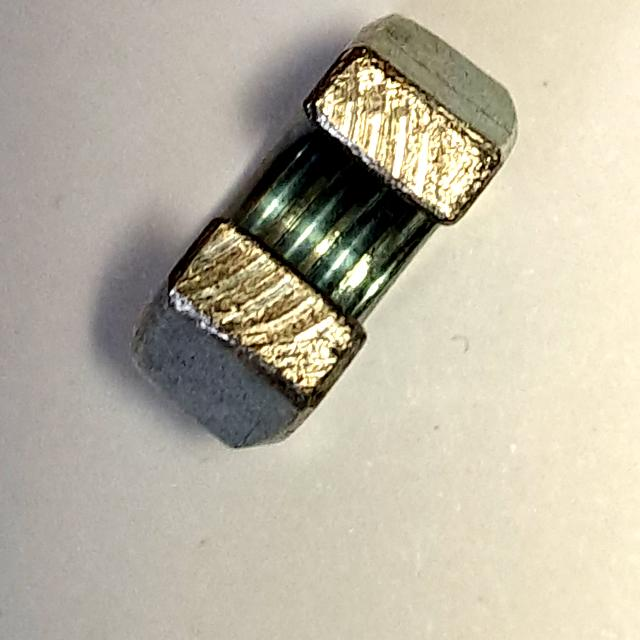Side-Fracture: (111, 4, 535, 464)
